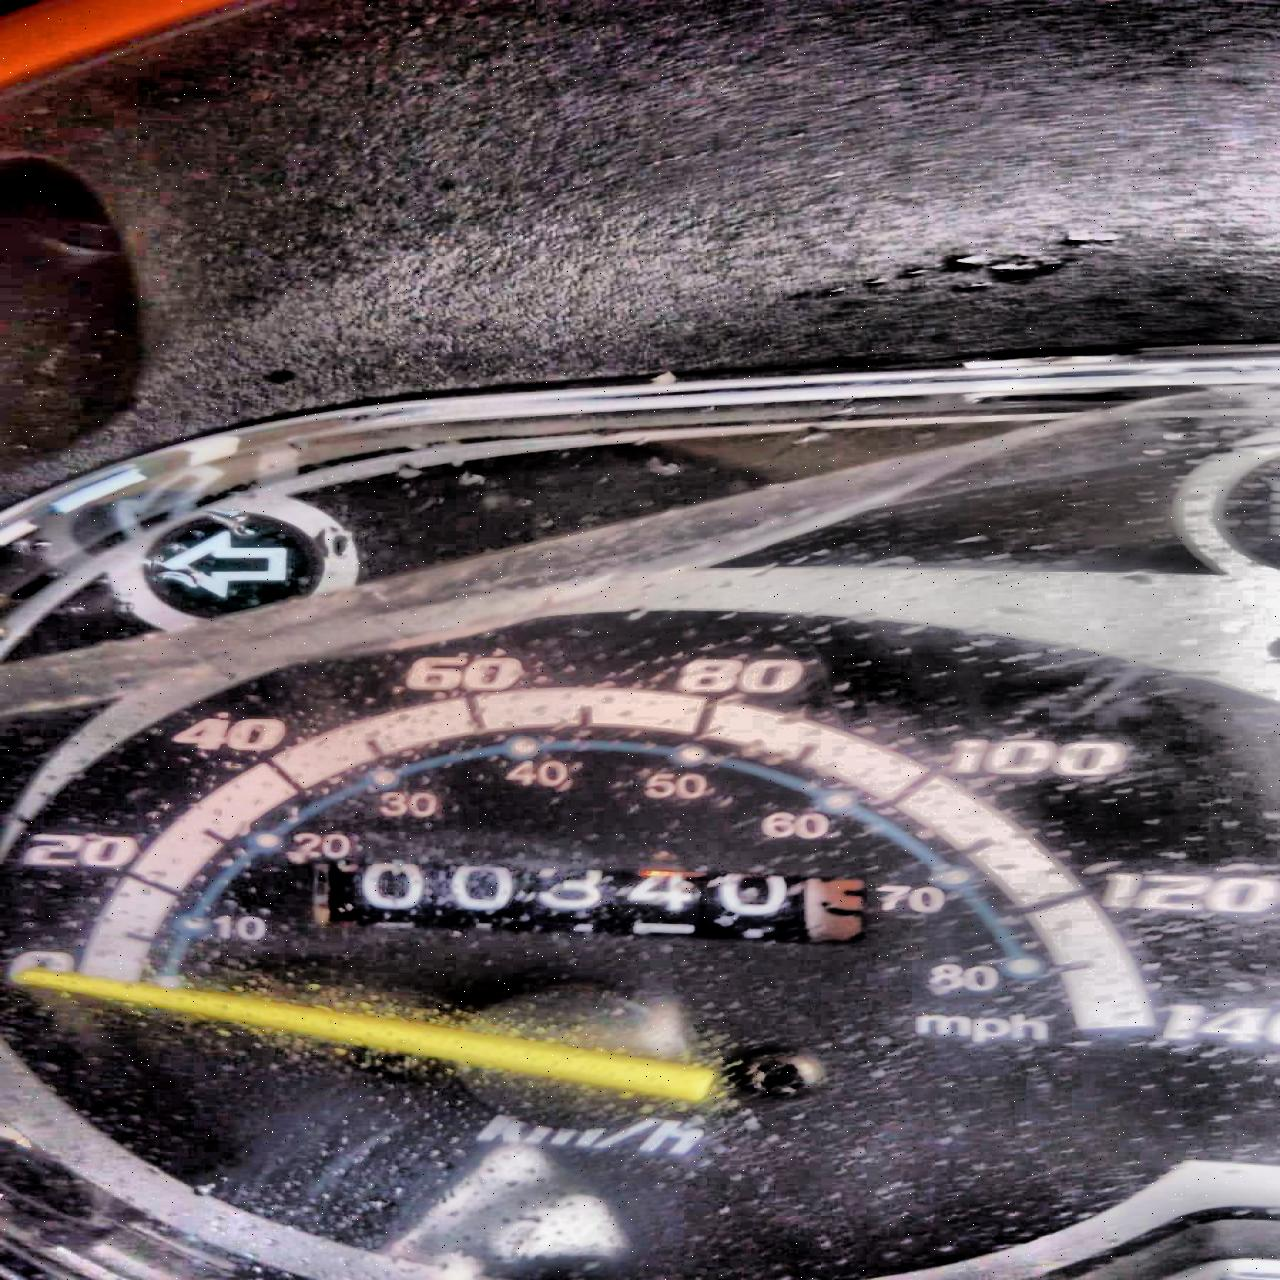0: (717, 869, 787, 915), (361, 860, 424, 910), (448, 864, 513, 911)
3: (538, 864, 601, 908), (816, 871, 871, 915)
4: (624, 864, 694, 911)
odometer: (304, 857, 872, 951)
